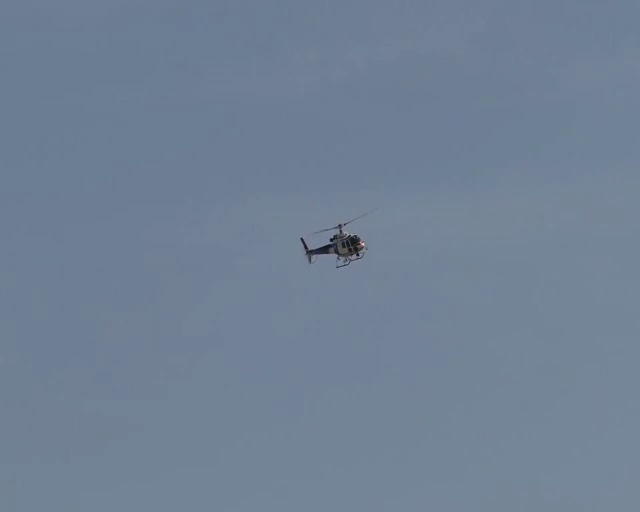HELICOPTER: (299, 207, 379, 269)
